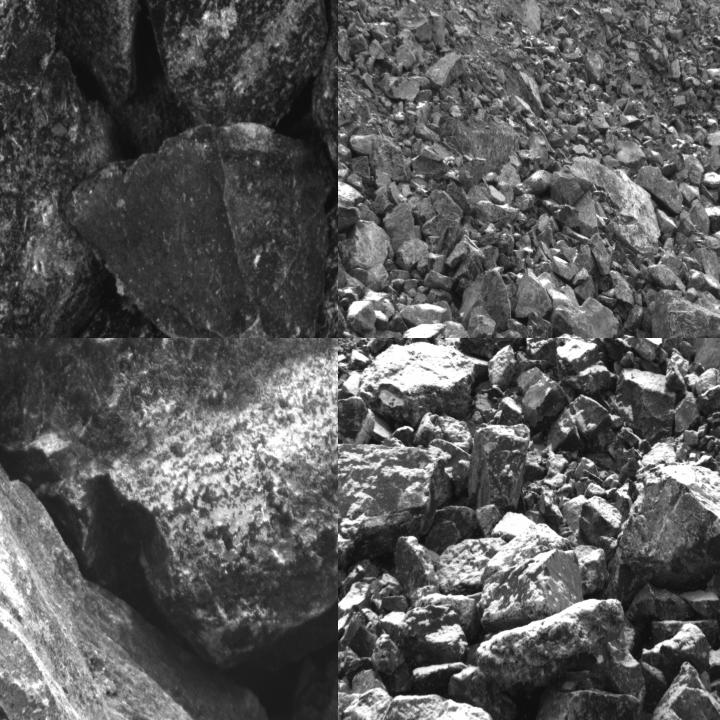stone: (0, 338, 337, 677), (0, 386, 288, 719), (63, 123, 335, 337), (0, 0, 114, 337), (146, 0, 322, 122), (470, 598, 653, 700), (0, 0, 151, 110), (338, 438, 445, 577), (613, 460, 719, 599), (360, 340, 474, 421), (476, 549, 584, 633), (338, 687, 571, 719), (0, 295, 169, 337), (466, 425, 528, 509), (613, 366, 679, 444), (376, 605, 467, 660), (547, 284, 626, 337), (436, 536, 508, 594), (547, 396, 620, 452), (451, 664, 521, 719), (532, 686, 644, 719), (338, 220, 390, 290), (653, 665, 719, 719), (517, 366, 567, 430), (555, 338, 610, 394), (461, 270, 513, 329), (392, 536, 440, 598), (627, 581, 693, 626), (351, 133, 411, 181), (636, 166, 683, 219), (578, 494, 626, 542), (570, 541, 610, 592), (515, 269, 555, 318), (338, 399, 377, 448), (421, 213, 463, 257), (694, 338, 719, 405), (550, 168, 595, 205), (386, 202, 417, 251), (425, 52, 466, 89), (461, 338, 529, 358), (613, 140, 648, 176), (400, 302, 450, 327), (695, 367, 719, 417), (674, 392, 701, 434), (396, 239, 430, 272), (338, 173, 365, 213), (526, 338, 564, 366), (467, 306, 497, 337), (426, 320, 471, 337), (523, 170, 553, 195), (345, 156, 370, 184), (399, 322, 444, 337), (643, 709, 696, 719)
